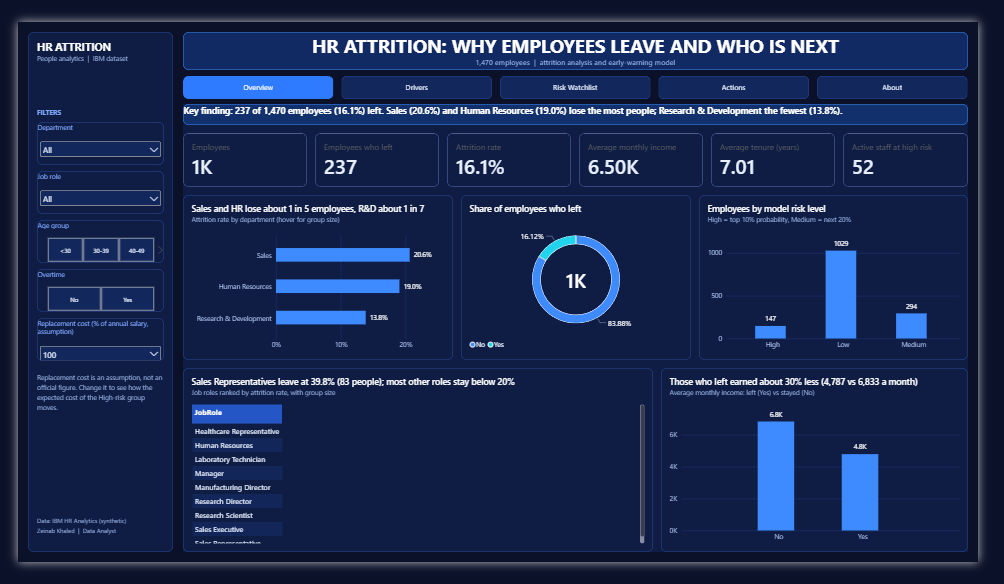

This screenshot's page, from the dashboard's own definition file:
{"tool":"powerbi","page":{"name":"Dashboard","canvas":[1920,1080],"ordinal":1},"visuals":[{"type":"textbox","box":[330,164,1570,42],"z":10,"group":"g1"},{"type":"barChart","title":"Sales and HR lose about 1 in 5 employees, R&D about 1 in 7","fields":{"Category":["HR.Department"],"Y":["HR.Attrition Rate"]},"box":[330,346,540,330],"z":10,"group":"g1"},{"type":"donutChart","title":"Share of employees who left","fields":{"Category":["HR.Attrition"],"Y":["HR.Total Employees"]},"box":[886,346,460,330],"z":11,"group":"g1"},{"type":"clusteredColumnChart","title":"Employees by model risk level","fields":{"Category":["HR.RiskLevel"],"Y":["HR.Total Employees"]},"box":[1362,346,538,330],"z":12,"group":"g1"},{"type":"tableEx","title":"Sales Representatives leave at 39.8% (83 people); most other roles stay below 20%","fields":{"Values":["HR.JobRole","HR.Total Employees","HR.Attrition Count","HR.Attrition Rate"]},"box":[330,692,940,368],"z":13,"group":"g1"},{"type":"clusteredColumnChart","title":"Those who left earned about 30% less (4,787 vs 6,833 a month)","fields":{"Category":["HR.Attrition"],"Y":["HR.Avg Monthly Income"]},"box":[1286,692,614,368],"z":14,"group":"g1"},{"type":"textbox","box":[20,20,290,1040],"z":40},{"type":"textbox","box":[38,34,254,64],"z":60},{"type":"textbox","box":[38,170,254,24],"z":62},{"type":"slicer","title":"Department","fields":{"Values":["HR.Department"]},"box":[38,200,254,86],"z":70},{"type":"slicer","title":"Job role","fields":{"Values":["HR.JobRole"]},"box":[38,298,254,86],"z":71},{"type":"slicer","title":"Age group","fields":{"Values":["HR.AgeGroup"]},"box":[38,396,254,86],"z":72},{"type":"slicer","title":"Overtime","fields":{"Values":["HR.OverTime"]},"box":[38,494,254,86],"z":73},{"type":"slicer","title":"Replacement cost (% of annual salary, assumption)","fields":{"Values":["Replacement Cost.Replacement Cost"]},"box":[38,592,254,86],"z":74},{"type":"textbox","box":[38,700,254,170],"z":75},{"type":"textbox","box":[38,985,254,60],"z":76},{"type":"textbox","box":[330,20,1570,76],"z":100},{"type":"cardVisual","fields":{"Data":["HR.Total Employees"]},"box":[330,222,248,108],"z":100,"group":"g1"},{"type":"cardVisual","fields":{"Data":["HR.Attrition Count"]},"box":[594,222,248,108],"z":101,"group":"g1"},{"type":"cardVisual","fields":{"Data":["HR.Attrition Rate"]},"box":[858,222,248,108],"z":102,"group":"g1"},{"type":"cardVisual","fields":{"Data":["HR.Avg Monthly Income"]},"box":[1122,222,248,108],"z":103,"group":"g1"},{"type":"cardVisual","fields":{"Data":["HR.Avg Tenure (Years)"]},"box":[1386,222,248,108],"z":104,"group":"g1"},{"type":"cardVisual","fields":{"Data":["HR.High Risk (Active)"]},"box":[1650,222,250,108],"z":105,"group":"g1"},{"type":"bookmarkNavigator","box":[330,108,1570,46],"z":200},{"type":"group","id":"g1","title":"V1 Overview","box":[330,164,1570,896],"z":1000}]}

Visuals, with their boxes on the page's 1920x1080 design canvas (x1, y1, x2, y2). These are canvas units, not pixel positions in the 1004x584 screenshot, which may show the page scaled, cropped or inside an application window:
textbox: 330,164,1900,206
"Sales and HR lose about 1 in 5 employees, R&D about 1 in 7" barChart: 330,346,870,676
"Share of employees who left" donutChart: 886,346,1346,676
"Employees by model risk level" clusteredColumnChart: 1362,346,1900,676
"Sales Representatives leave at 39.8% (83 people); most other roles stay below 20%" tableEx: 330,692,1270,1060
"Those who left earned about 30% less (4,787 vs 6,833 a month)" clusteredColumnChart: 1286,692,1900,1060
textbox: 20,20,310,1060
textbox: 38,34,292,98
textbox: 38,170,292,194
"Department" slicer: 38,200,292,286
"Job role" slicer: 38,298,292,384
"Age group" slicer: 38,396,292,482
"Overtime" slicer: 38,494,292,580
"Replacement cost (% of annual salary, assumption)" slicer: 38,592,292,678
textbox: 38,700,292,870
textbox: 38,985,292,1045
textbox: 330,20,1900,96
cardVisual - HR.Total Employees: 330,222,578,330
cardVisual - HR.Attrition Count: 594,222,842,330
cardVisual - HR.Attrition Rate: 858,222,1106,330
cardVisual - HR.Avg Monthly Income: 1122,222,1370,330
cardVisual - HR.Avg Tenure (Years): 1386,222,1634,330
cardVisual - HR.High Risk (Active): 1650,222,1900,330
bookmarkNavigator: 330,108,1900,154
"V1 Overview" group: 330,164,1900,1060
